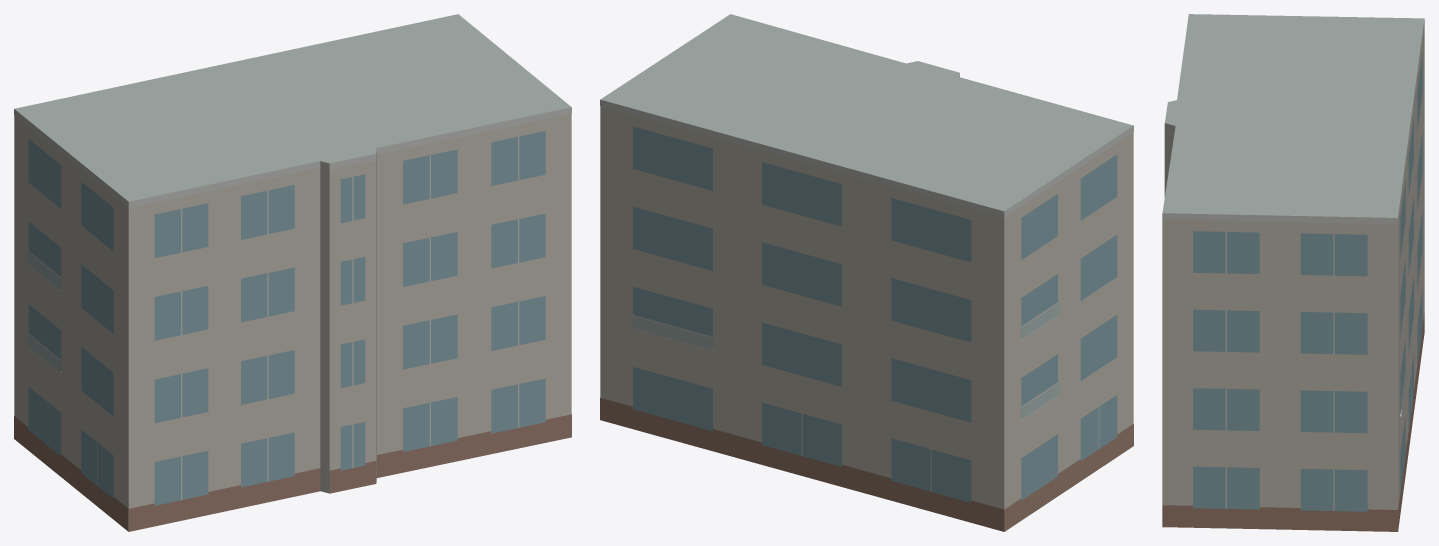
The model's file is survey-upis-32654471.glb.
3 renders of one model, left to right at view 1: azimuth 30°, elevation 25°; view 2: azimuth 150°, elevation 25°; view 3: azimuth 270°, elevation 25°, orthographic. The views are drawn at different scales.
Visible parts, largest first — view 1: survey-upis-32654471.tmp; view 2: survey-upis-32654471.tmp; view 3: survey-upis-32654471.tmp.
Part boxes in pixels (x1,y1,x2,y2): survey-upis-32654471.tmp: (14, 14, 571, 531); survey-upis-32654471.tmp: (600, 14, 1133, 531); survey-upis-32654471.tmp: (1162, 14, 1424, 531).
Bounding box in the file's own units: 17.01 × 12.2 × 9.24.
